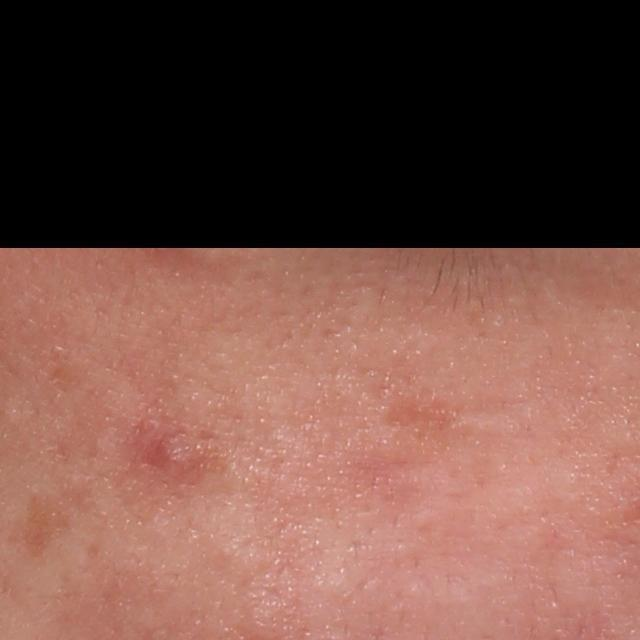papule: (148, 429, 199, 478)
